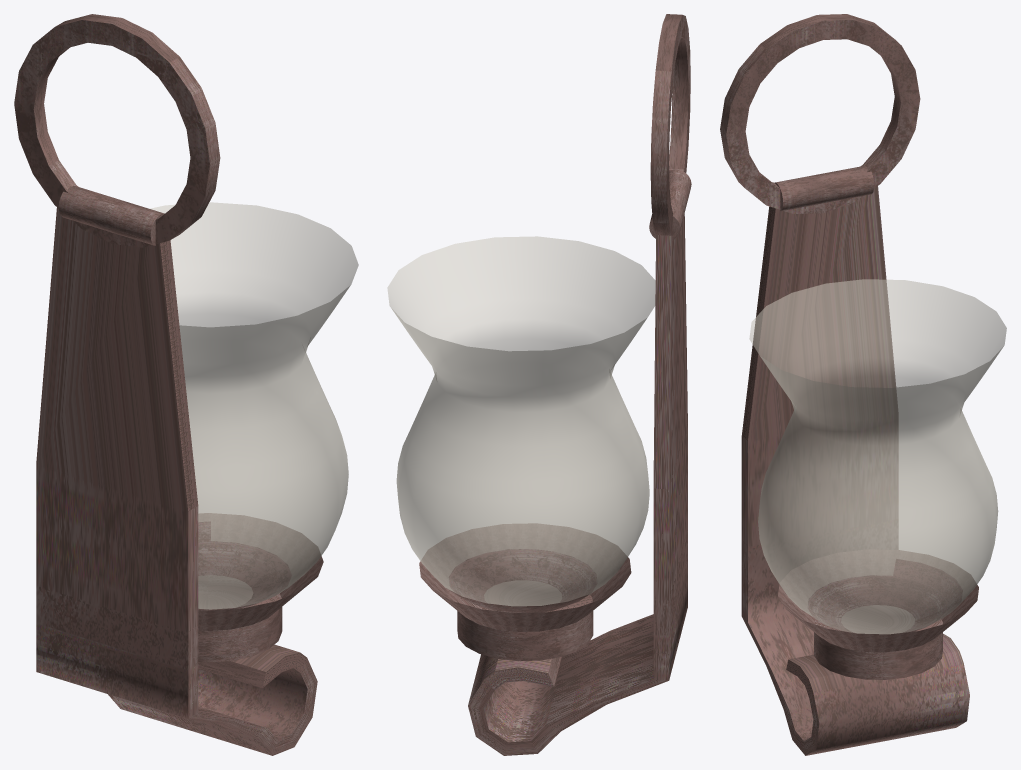
The model's file is walllantern.fbx.
The picture shows the model from 3 angles, left to right: view 1: azimuth 30°, elevation 25°; view 2: azimuth 150°, elevation 25°; view 3: azimuth 270°, elevation 25°; orthographic projection. The views are drawn at different scales.
Parts seen in each view (by area): view 1: lantern:polySurface2; view 2: lantern:polySurface2; view 3: lantern:polySurface2.
Part boxes in pixels (x1,y1,x2,y2): lantern:polySurface2: (14, 14, 358, 755); lantern:polySurface2: (387, 14, 691, 755); lantern:polySurface2: (720, 14, 1006, 755).
Size of the model in its own units: 0.425 by 1.02 by 0.3976.
2 materials, 1 textured.
